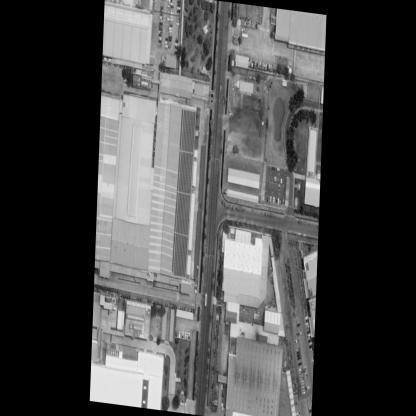solar-pv-panel: (172, 108, 196, 277)
